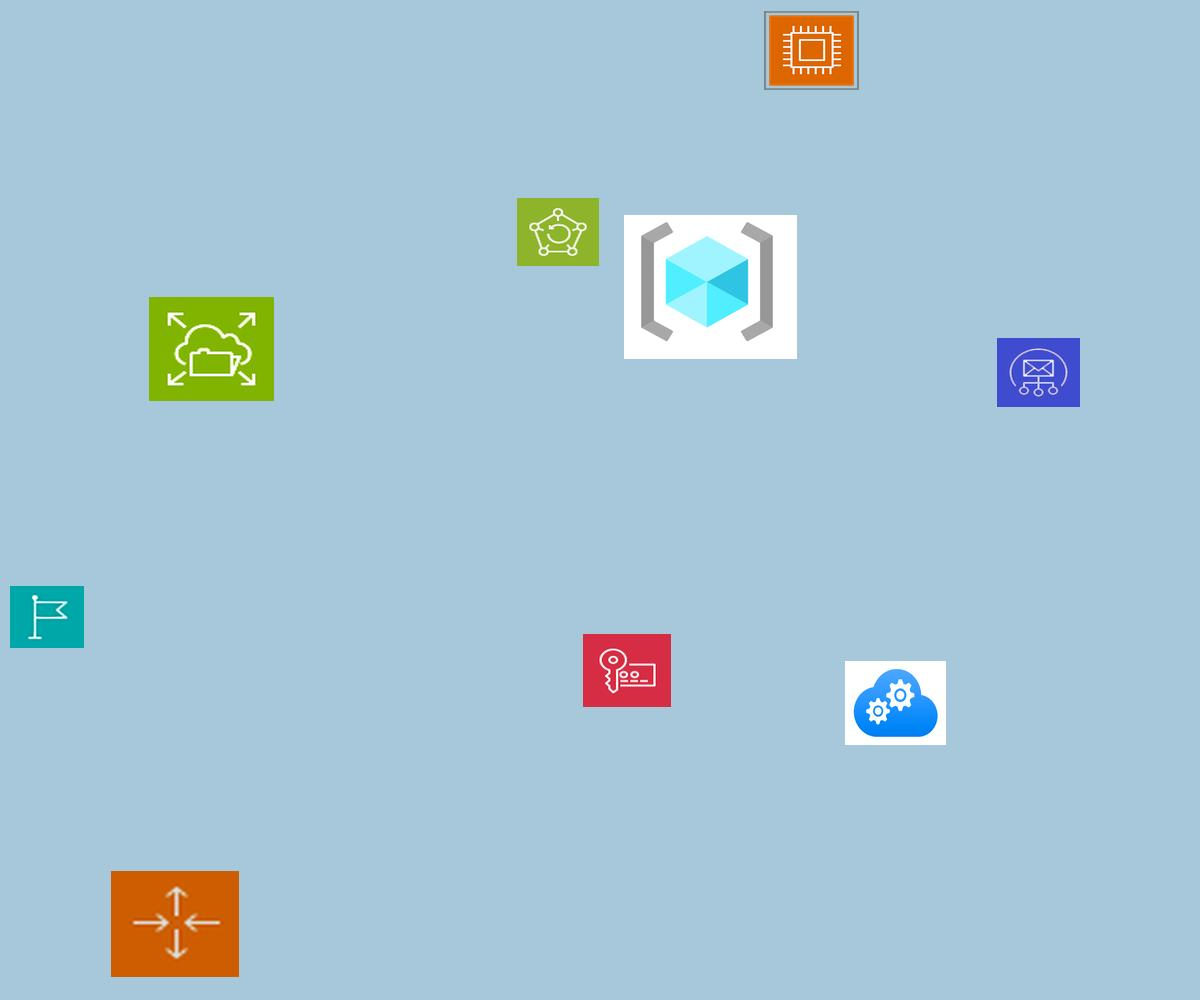AWS-Backup: (517, 198, 599, 266)
AWS-Category_Compute: (764, 11, 859, 90)
AWS-EFS: (149, 297, 274, 401)
AWS-Key-Management-Service: (583, 634, 671, 707)
AWS-Region: (10, 586, 84, 648)
AWS-Scaling-group: (111, 871, 239, 977)
AWS-Simple-Email-Service: (997, 338, 1080, 407)
Azure_cloud_services: (845, 661, 946, 745)
Azure_resource_group: (624, 215, 797, 359)
